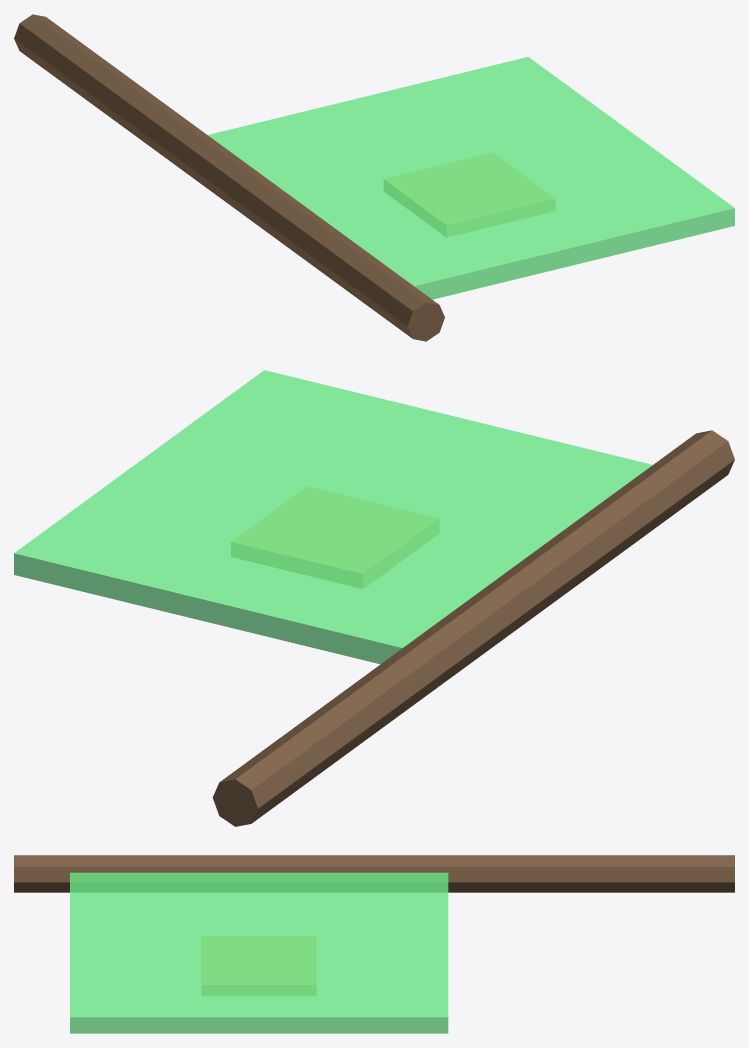
Rendered from orbital_resistance_banner.glb.
The picture shows the model from 3 angles, top to bottom: view 1: azimuth 30°, elevation 25°; view 2: azimuth 150°, elevation 25°; view 3: azimuth 270°, elevation 25°; orthographic projection. The views are drawn at different scales.
Visible parts, largest first — view 1: banner_cloth, banner_pole, emblem; view 2: banner_cloth, banner_pole, emblem; view 3: banner_cloth, banner_pole, emblem.
Part boxes in pixels (x1,y1,x2,y2): banner_cloth: (208, 57, 734, 299); banner_pole: (14, 14, 444, 341); emblem: (384, 153, 554, 236); banner_cloth: (14, 370, 652, 664); banner_pole: (212, 430, 734, 826); emblem: (231, 486, 438, 588); banner_cloth: (70, 872, 448, 1033); banner_pole: (14, 855, 734, 892); emblem: (202, 936, 315, 995).
Size of the model in its own units: 1.05 by 0.1125 by 2.
